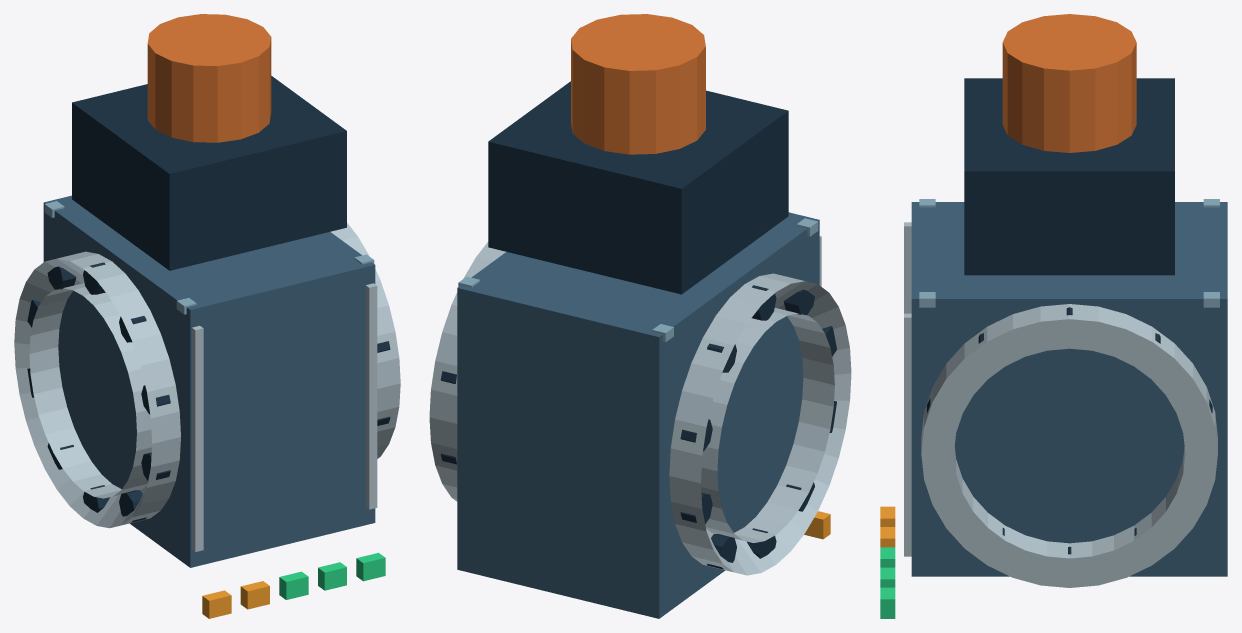
Rendered from 28_L72_VacuumIsolationValve.fbx.
3 views of the same model, side by side, from view 1: azimuth 30°, elevation 25°; view 2: azimuth 150°, elevation 25°; view 3: azimuth 270°, elevation 25° (orthographic). The views are drawn at different scales.
Parts seen in each view (by area): view 1: VacuumIsolationValve; view 2: VacuumIsolationValve; view 3: VacuumIsolationValve.
Part boxes in pixels (x1,y1,x2,y2): VacuumIsolationValve: [14, 14, 400, 618]; VacuumIsolationValve: [429, 14, 851, 618]; VacuumIsolationValve: [880, 14, 1227, 618].
Bounding box in the file's own units: 64.5 × 122 × 72.55.
